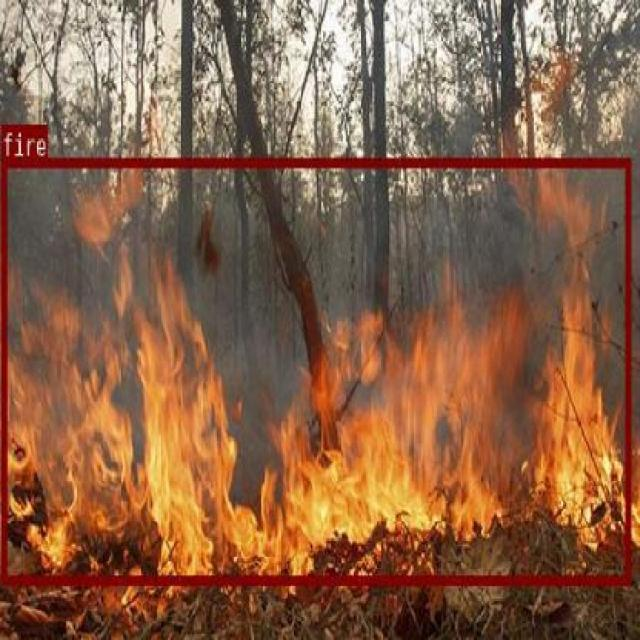Fire: (1, 156, 630, 582)
